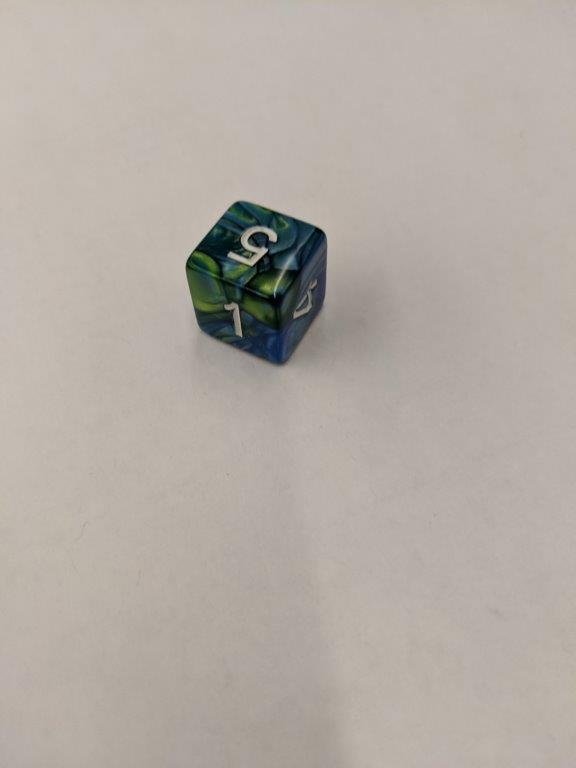d6-5: (185, 196, 327, 364)
